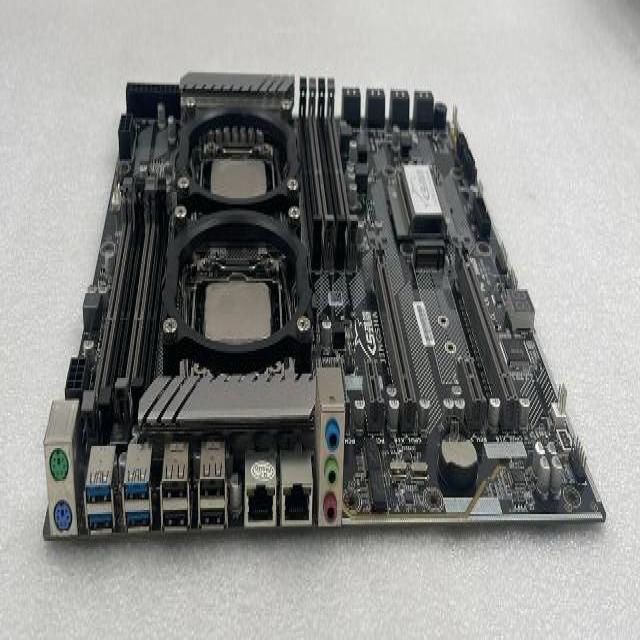CPU: (200, 281, 274, 347), (208, 156, 270, 199)
